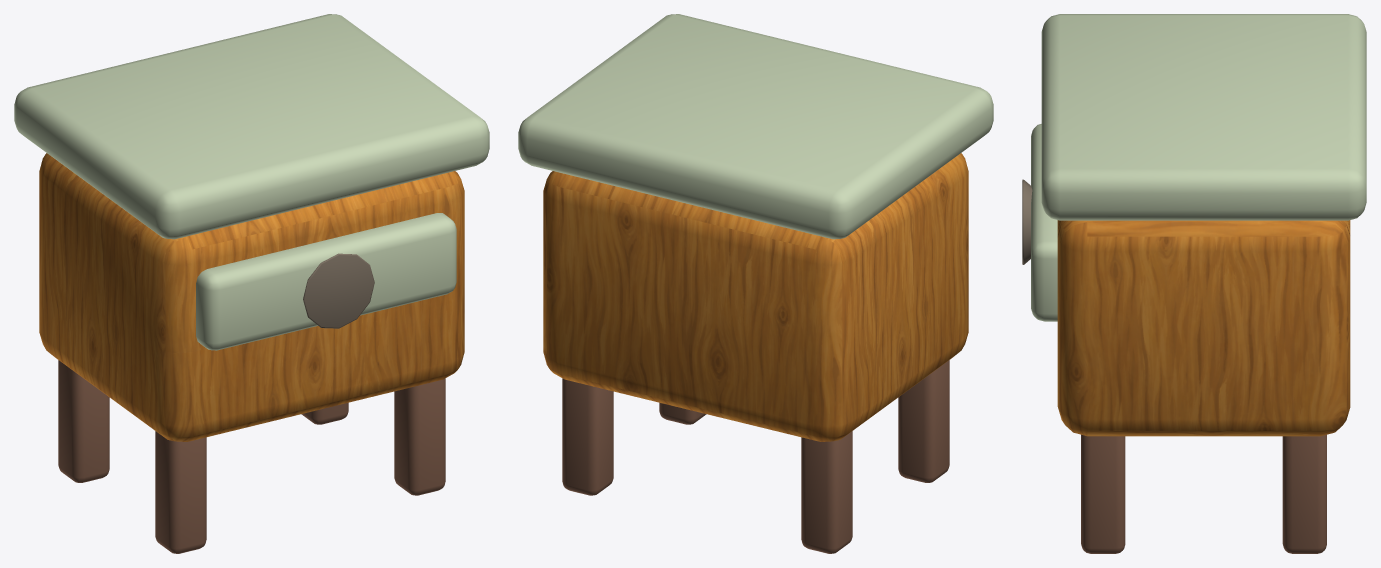
Rendered from drawer-side-table.glb.
The picture shows the model from 3 angles, left to right: view 1: azimuth 30°, elevation 25°; view 2: azimuth 150°, elevation 25°; view 3: azimuth 270°, elevation 25°; orthographic projection. The views are drawn at different scales.
Visible parts, largest first — view 1: drawer-side-table; view 2: drawer-side-table; view 3: drawer-side-table.
Boxes of the visible parts, left/top/right/bottom form: drawer-side-table: left=14, top=14, right=489, bottom=553; drawer-side-table: left=518, top=14, right=993, bottom=553; drawer-side-table: left=1022, top=14, right=1366, bottom=553.
Size of the model in its own units: 0.54 by 0.5895 by 0.466.
Materials: 4 (1 with a texture image).
